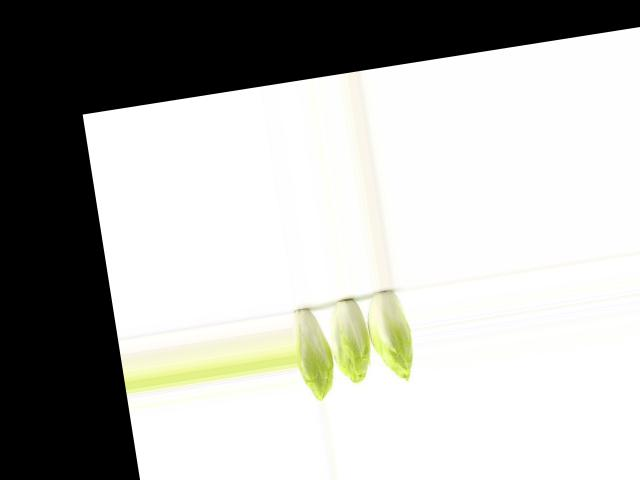lettuce: (363, 284, 418, 386)
